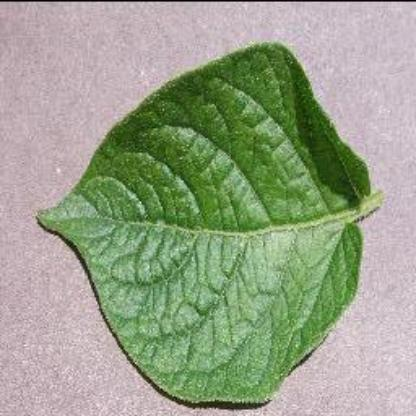Healthy-plant: (44, 34, 384, 404)
